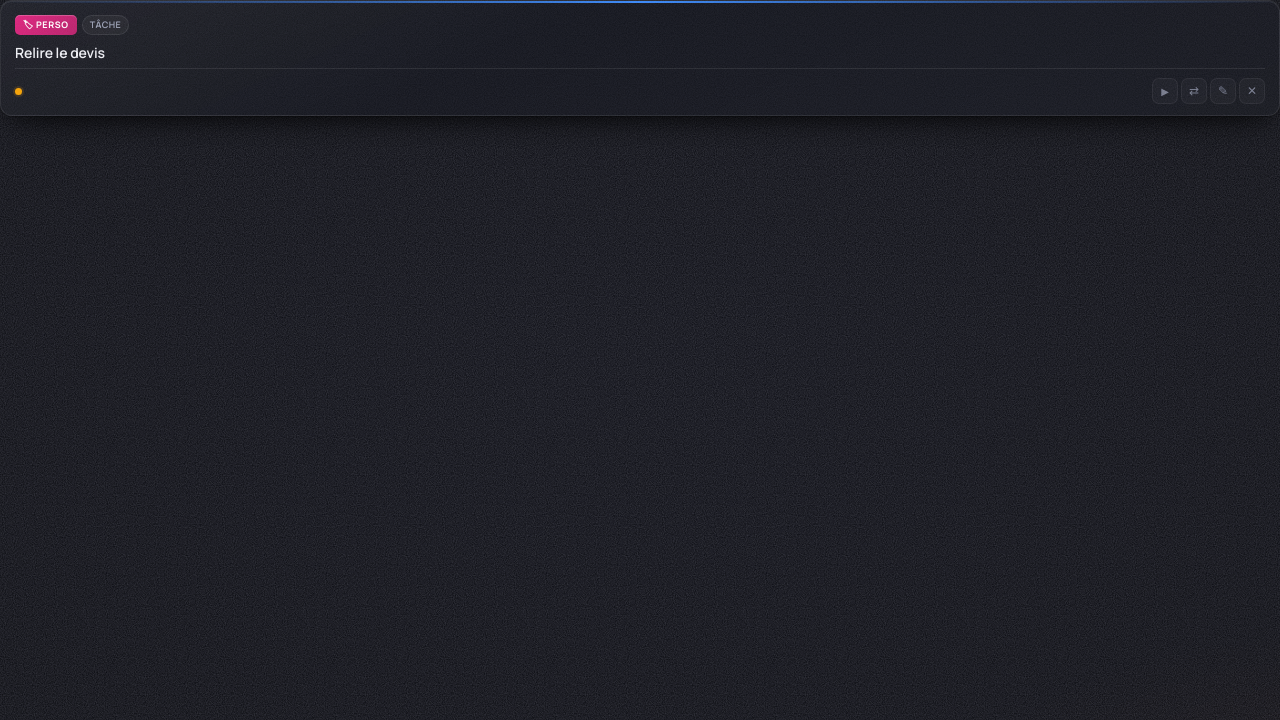
it: TaskCard — déplacer sans glisser › déplace vers la liste choisie, en fin de liste
The width and height of the screenshot is (1280, 720).
Click the button named "Déplacer « Relire le devis »" at (1194, 91), box [1181,78,1207,104]
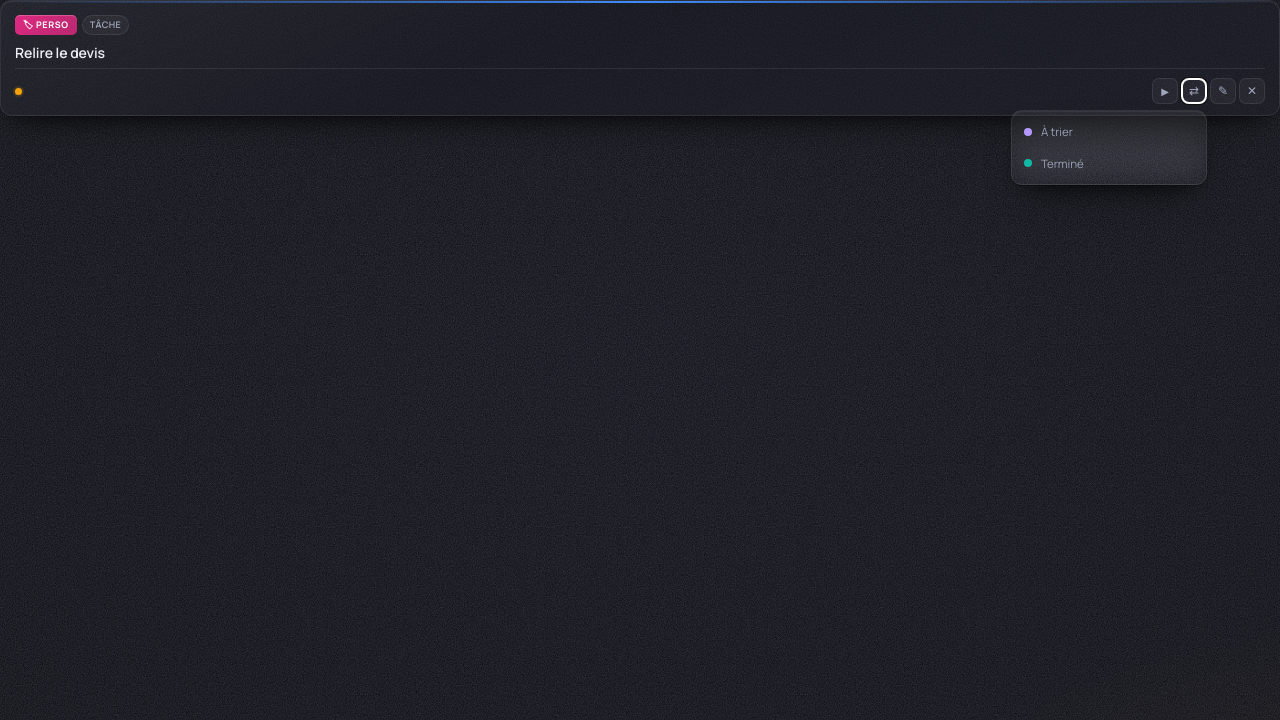
Click the menu item "Terminé" at (1109, 163), box [1012,148,1206,179]
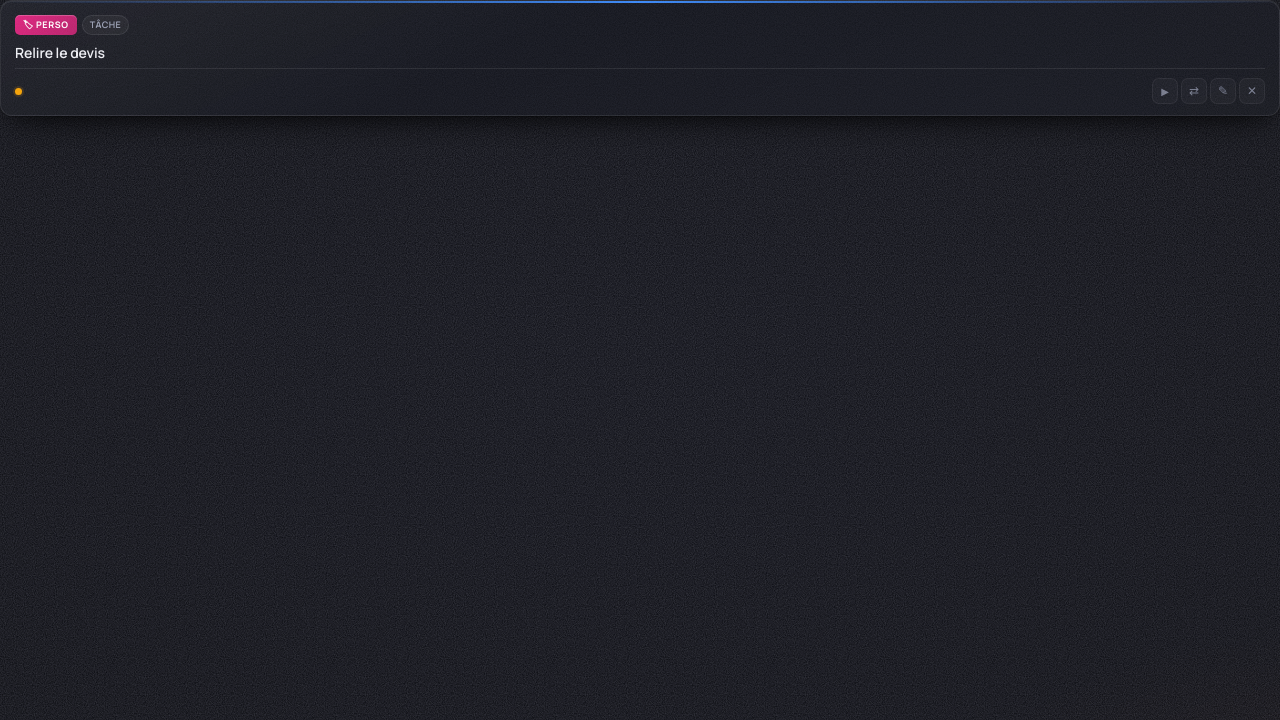
Now the menu is gone
